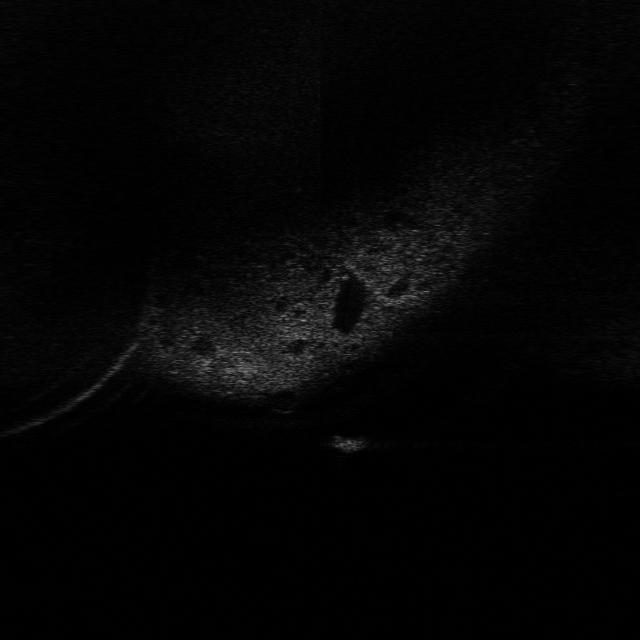cube: (323, 428, 376, 457)
